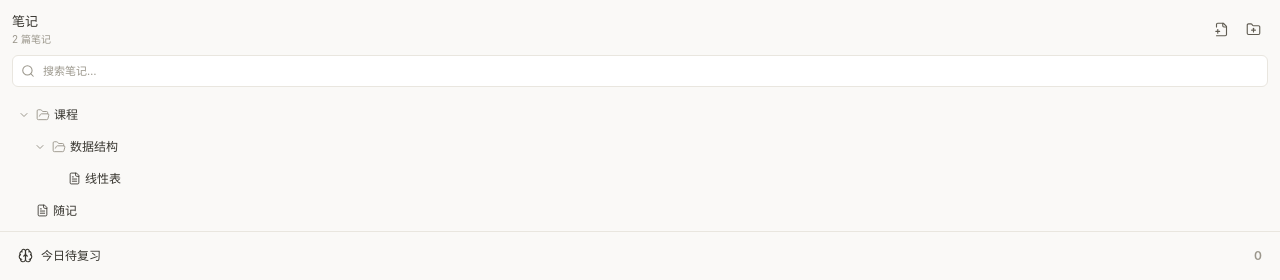
Test: FileTree 拖拽移动 › 落进折叠目录后展开它
Click the button with class "tree-row" showing "课程" at (24, 114), box x1=8 y1=98 x2=1272 y2=130
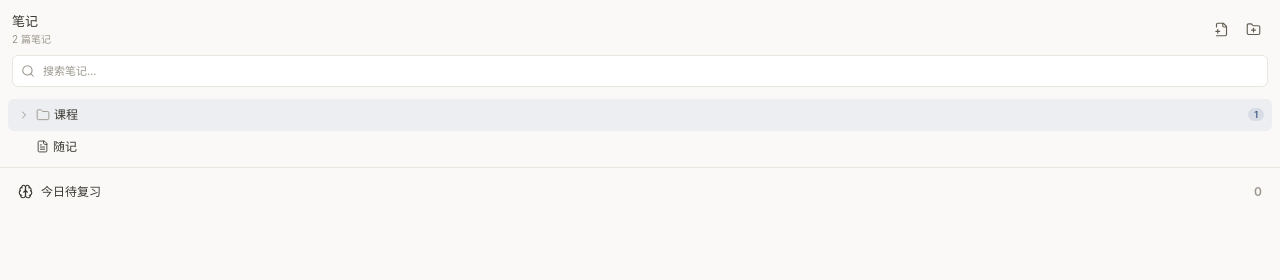
Now the text "数据结构" is gone
Press the mouse on the button with class "tree-row" showing "随记" at (42, 146), box x1=8 y1=130 x2=1272 y2=162
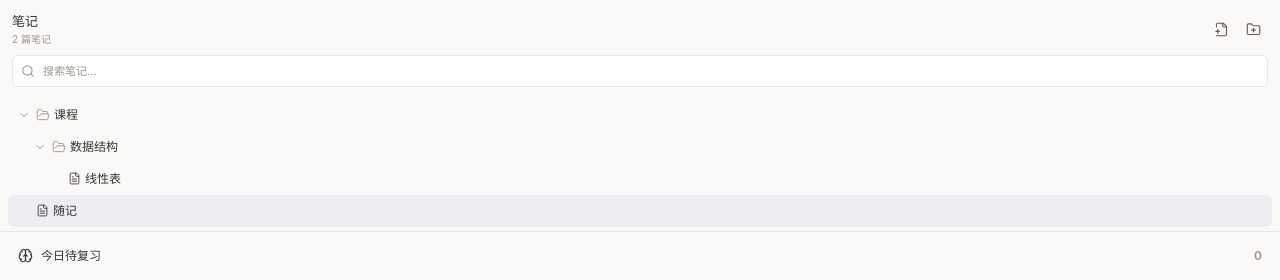
Now the text "数据结构" is shown, box x1=70 y1=138 x2=118 y2=156
